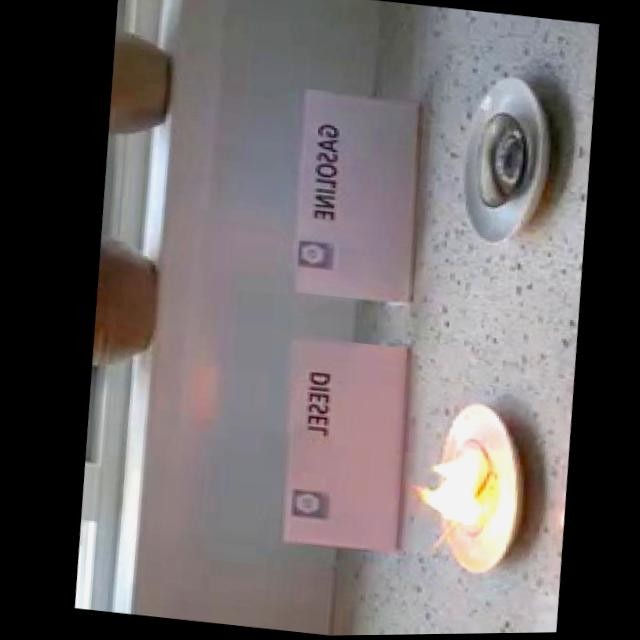Fire: (397, 445, 494, 530)
